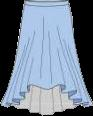Hemline: (0, 83, 92, 107)
Waistline: (23, 0, 69, 7)
